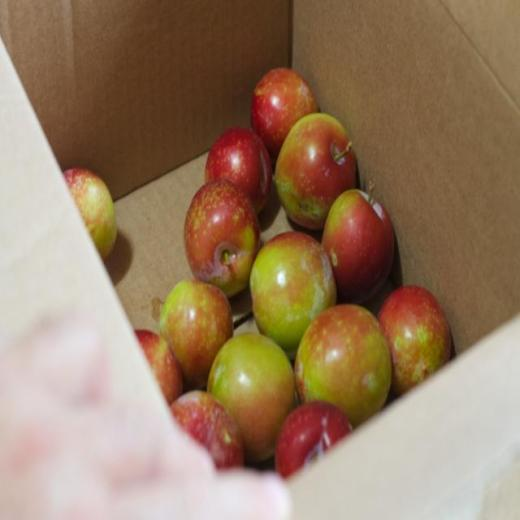Apple: (158, 276, 237, 378)
